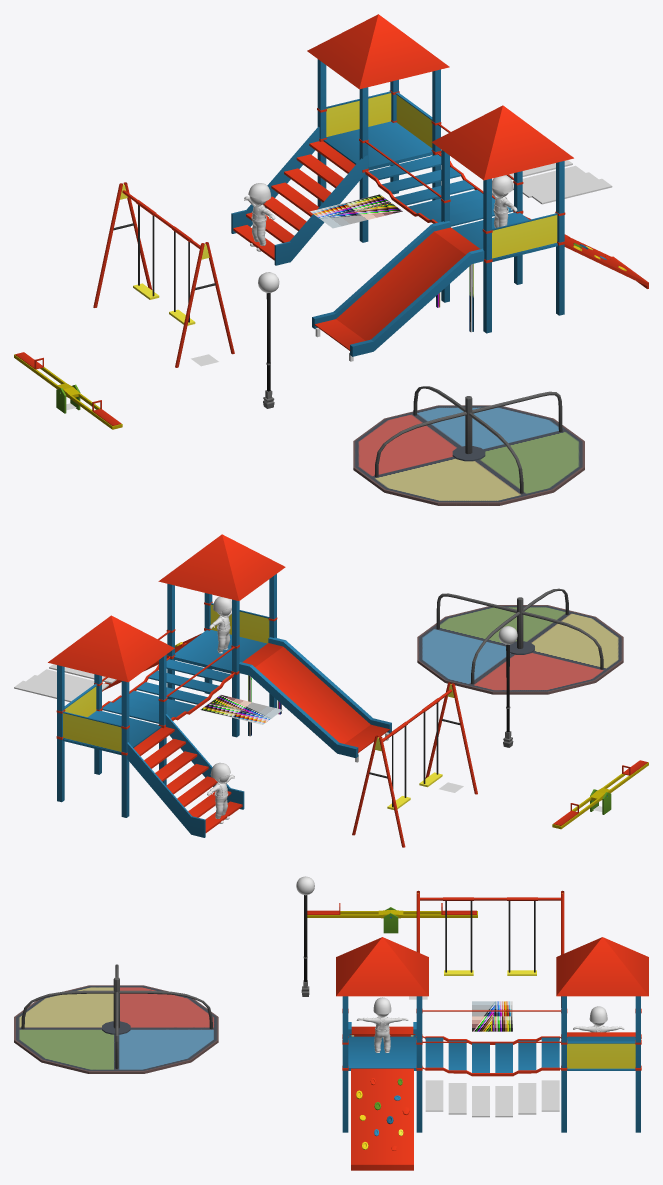
The model's file is Playground.fbx.
The picture shows the model from 3 angles, top to bottom: view 1: azimuth 30°, elevation 25°; view 2: azimuth 150°, elevation 25°; view 3: azimuth 270°, elevation 25°; orthographic projection. The views are drawn at different scales.
Visible parts, largest first — view 1: Cube.025, Plane.021, Cube.008, Plane.038, Plane.041, Plane.018, Plane.029, Cube.029, Plane.040, Plane.042, Plane.035, Plane.033 (+8 smaller); view 2: Cube.025, Plane.021, Cube.008, Plane.038, Plane.041, Plane.029, Plane.018, Plane.040, Cube.029, Plane.042, Plane.035, Plane.033 (+8 smaller); view 3: Cube.025, Plane.021, Plane.046, Cube.008, Plane.035, Plane.029, Plane.018, Cube.028, Plane.039, como.008, Plane.045, Plane.036 (+8 smaller).
Boxes of the visible parts, left/top/right/bottom form: Cube.025: left=353, top=386, right=584, bottom=505; Plane.021: left=307, top=14, right=573, bottom=180; Cube.008: left=317, top=59, right=565, bottom=333; Plane.038: left=314, top=227, right=480, bottom=350; Plane.041: left=233, top=141, right=355, bottom=260; Plane.018: left=323, top=121, right=557, bottom=261; Plane.029: left=368, top=154, right=513, bottom=226; Cube.029: left=326, top=93, right=557, bottom=258; Plane.040: left=312, top=221, right=484, bottom=356; Plane.042: left=231, top=126, right=367, bottom=265; Plane.035: left=506, top=160, right=612, bottom=204; Plane.033: left=93, top=182, right=234, bottom=367; Cube.025: left=417, top=588, right=623, bottom=694; Plane.021: left=48, top=534, right=285, bottom=682; Cube.008: left=56, top=574, right=277, bottom=817; Plane.038: left=242, top=643, right=390, bottom=753; Plane.041: left=133, top=727, right=242, bottom=832; Plane.029: left=102, top=659, right=230, bottom=723; Plane.018: left=62, top=630, right=267, bottom=755; Plane.040: left=239, top=637, right=391, bottom=757; Cube.029: left=63, top=604, right=269, bottom=751; Plane.042: left=127, top=714, right=244, bottom=837; Plane.035: left=14, top=664, right=116, bottom=701; Plane.033: left=352, top=682, right=477, bottom=847; Cube.025: left=14, top=964, right=218, bottom=1073; Plane.021: left=336, top=937, right=648, bottom=996; Plane.046: left=351, top=1068, right=413, bottom=1170; Cube.008: left=342, top=996, right=641, bottom=1132; Plane.035: left=425, top=1080, right=559, bottom=1117; Plane.029: left=425, top=1037, right=559, bottom=1072; Plane.018: left=348, top=1036, right=635, bottom=1070; Cube.028: left=567, top=1043, right=635, bottom=1068; Plane.039: left=472, top=1001, right=512, bottom=1031; como.008: left=356, top=997, right=408, bottom=1052; Plane.045: left=307, top=910, right=477, bottom=918; Plane.036: left=422, top=1036, right=560, bottom=1076.
Size of what is drawn, in the model's own units: 1628 by 555 by 1773.
